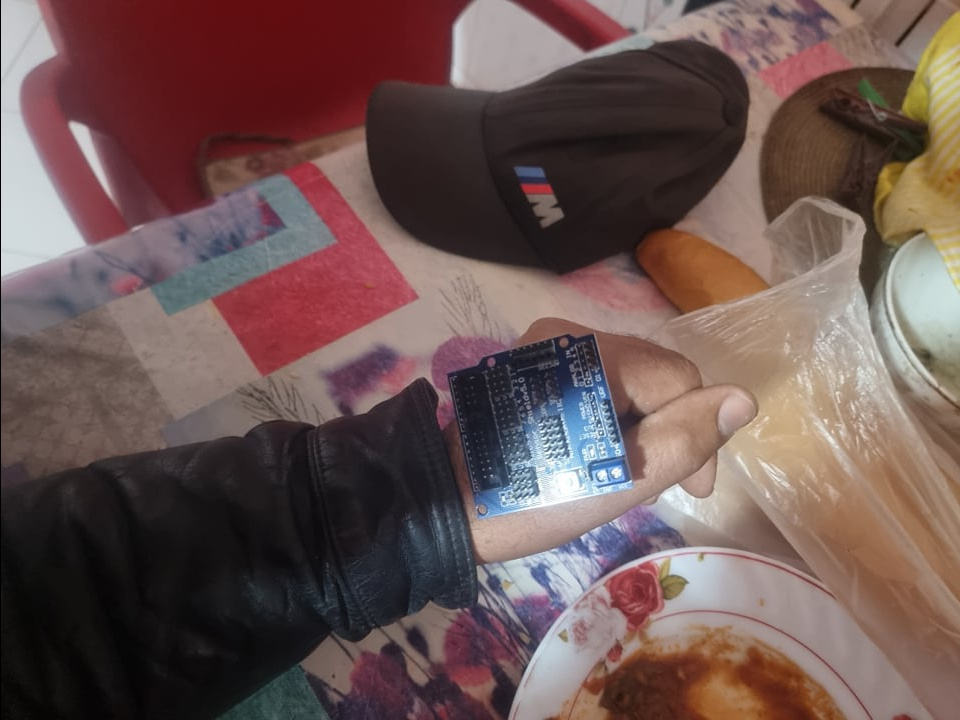5V EXPANSION: (445, 329, 638, 522)
